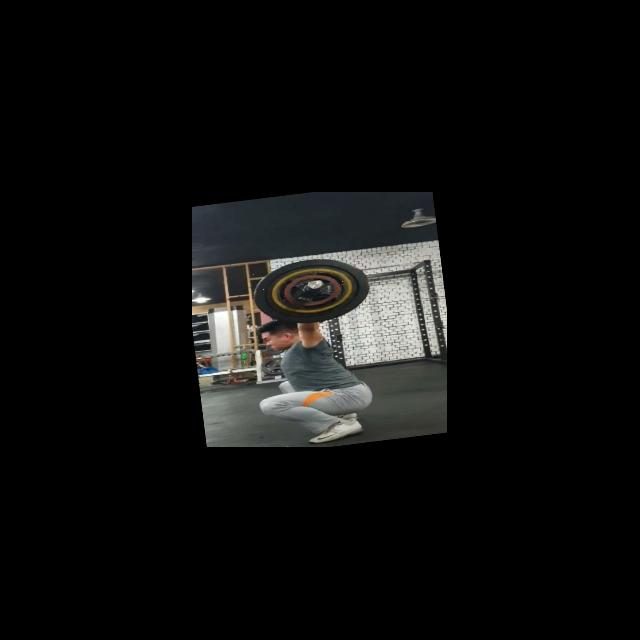barbell: (244, 247, 381, 333)
